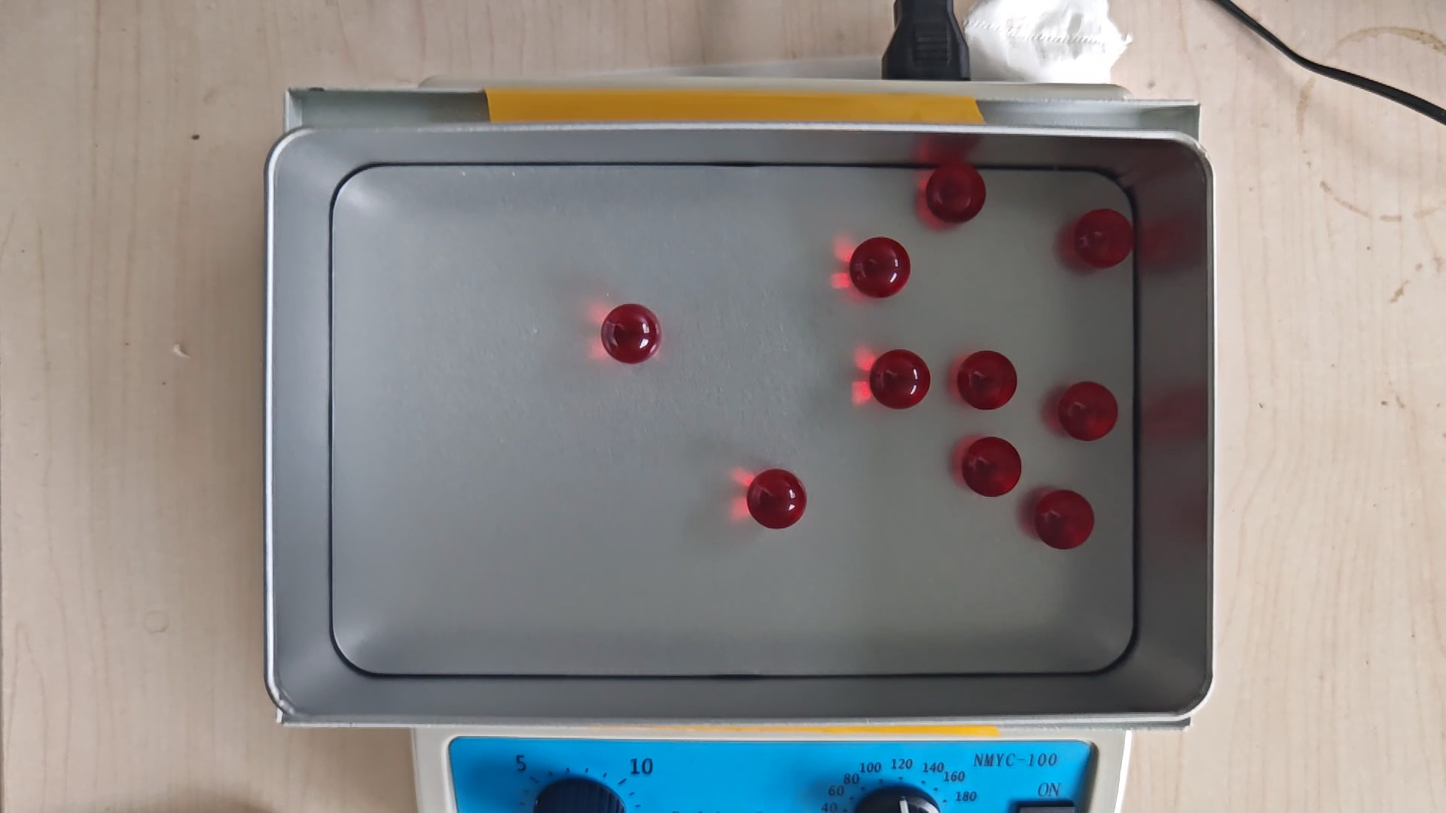ball: (1033, 488, 1095, 551), (1057, 380, 1119, 443), (850, 235, 911, 299), (1073, 207, 1134, 270), (957, 349, 1018, 411), (870, 349, 931, 411), (926, 162, 987, 224), (747, 468, 808, 530), (962, 435, 1022, 498), (601, 302, 661, 364)
container: (330, 164, 1136, 676)
